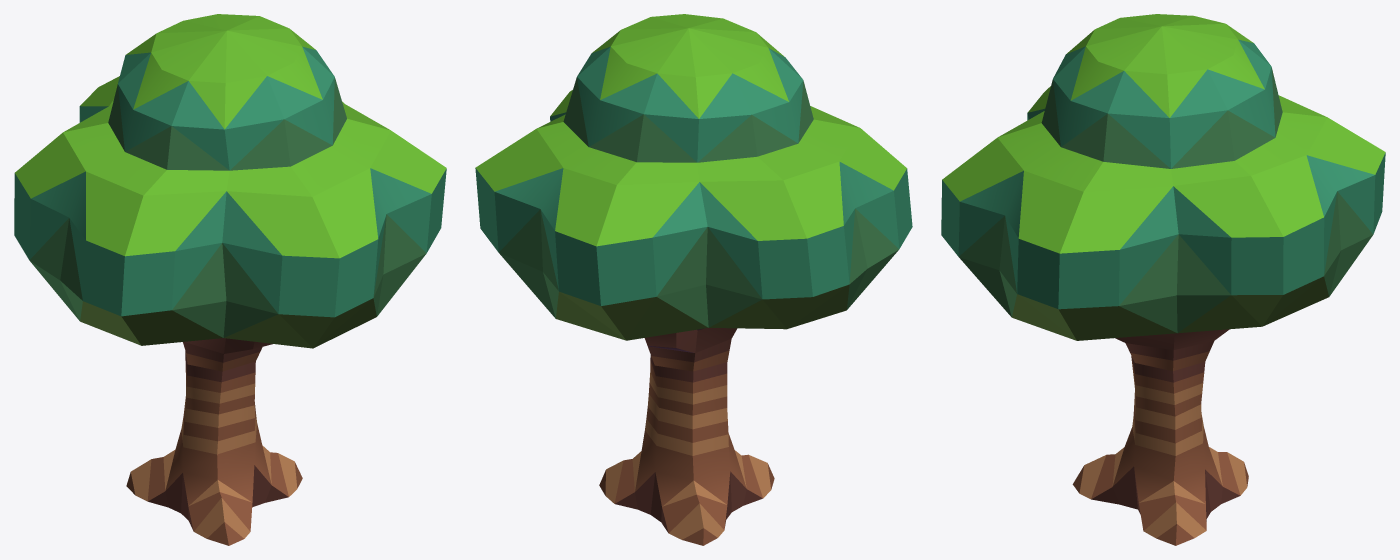
Rendered from mesh_Tree.fbx.
The picture shows the model from 3 angles, left to right: view 1: azimuth 30°, elevation 25°; view 2: azimuth 150°, elevation 25°; view 3: azimuth 270°, elevation 25°; orthographic projection.
Parts seen in each view (by area): view 1: pCube1; view 2: pCube1; view 3: pCube1.
Part boxes in pixels (<box>): pCube1: <box>14,14,446,545</box>; pCube1: <box>475,14,912,545</box>; pCube1: <box>941,14,1385,545</box>.
Bounding box in the file's own units: 5.25 × 6.8 × 5.72.
